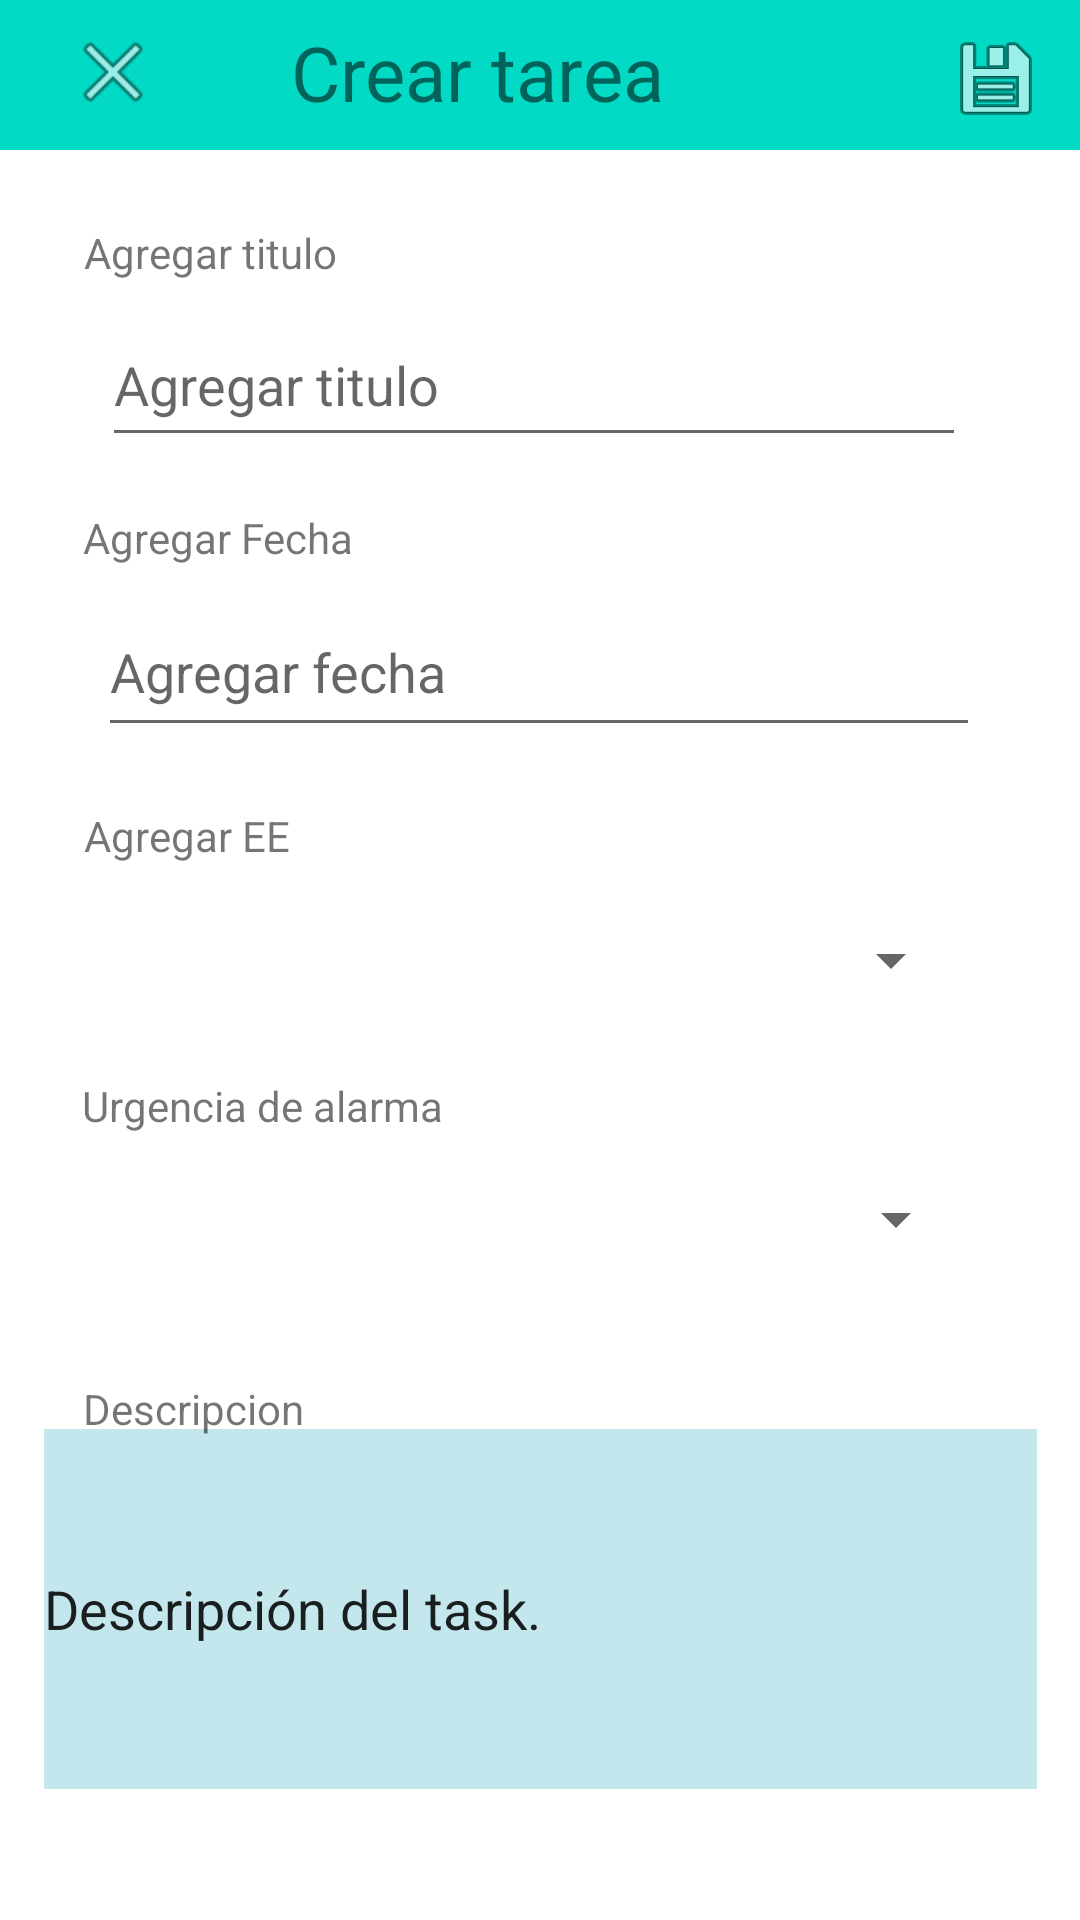

Where to tap for icons on this 1080×1920 app screen, as [x,y]:
Boton para cerrar el Task: [113,72]
Boton para guardar el task: [996,78]
